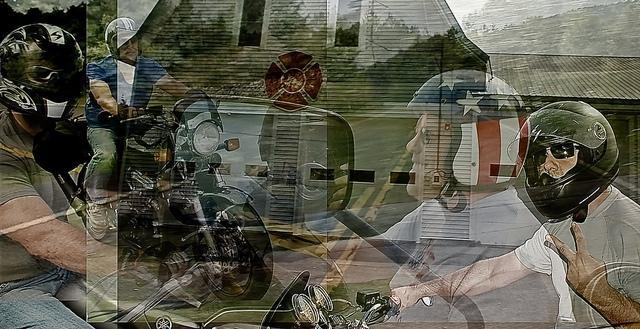motorcycle: (59, 180, 350, 323), (117, 90, 273, 301), (228, 265, 402, 329)
